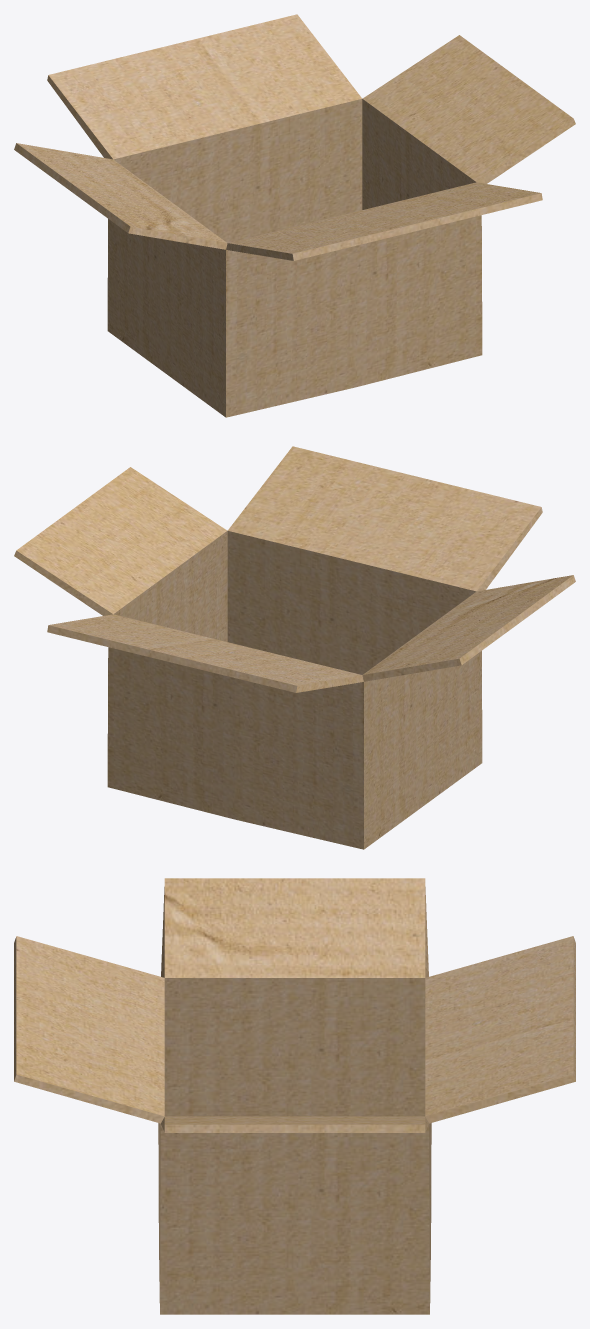
The picture shows the model from 3 angles, top to bottom: view 1: azimuth 30°, elevation 25°; view 2: azimuth 150°, elevation 25°; view 3: azimuth 270°, elevation 25°; orthographic projection. The views are drawn at different scales.
Visible parts, largest first — view 1: Box1.001; view 2: Box1.001; view 3: Box1.001.
Part boxes in pixels (box(x1,y1,x2,y2)): Box1.001: box(14, 14, 575, 417); Box1.001: box(14, 446, 575, 849); Box1.001: box(14, 878, 575, 1314).
Size of the model in its own units: 1.13 by 0.514 by 1.08.
1 material, 1 textured.
